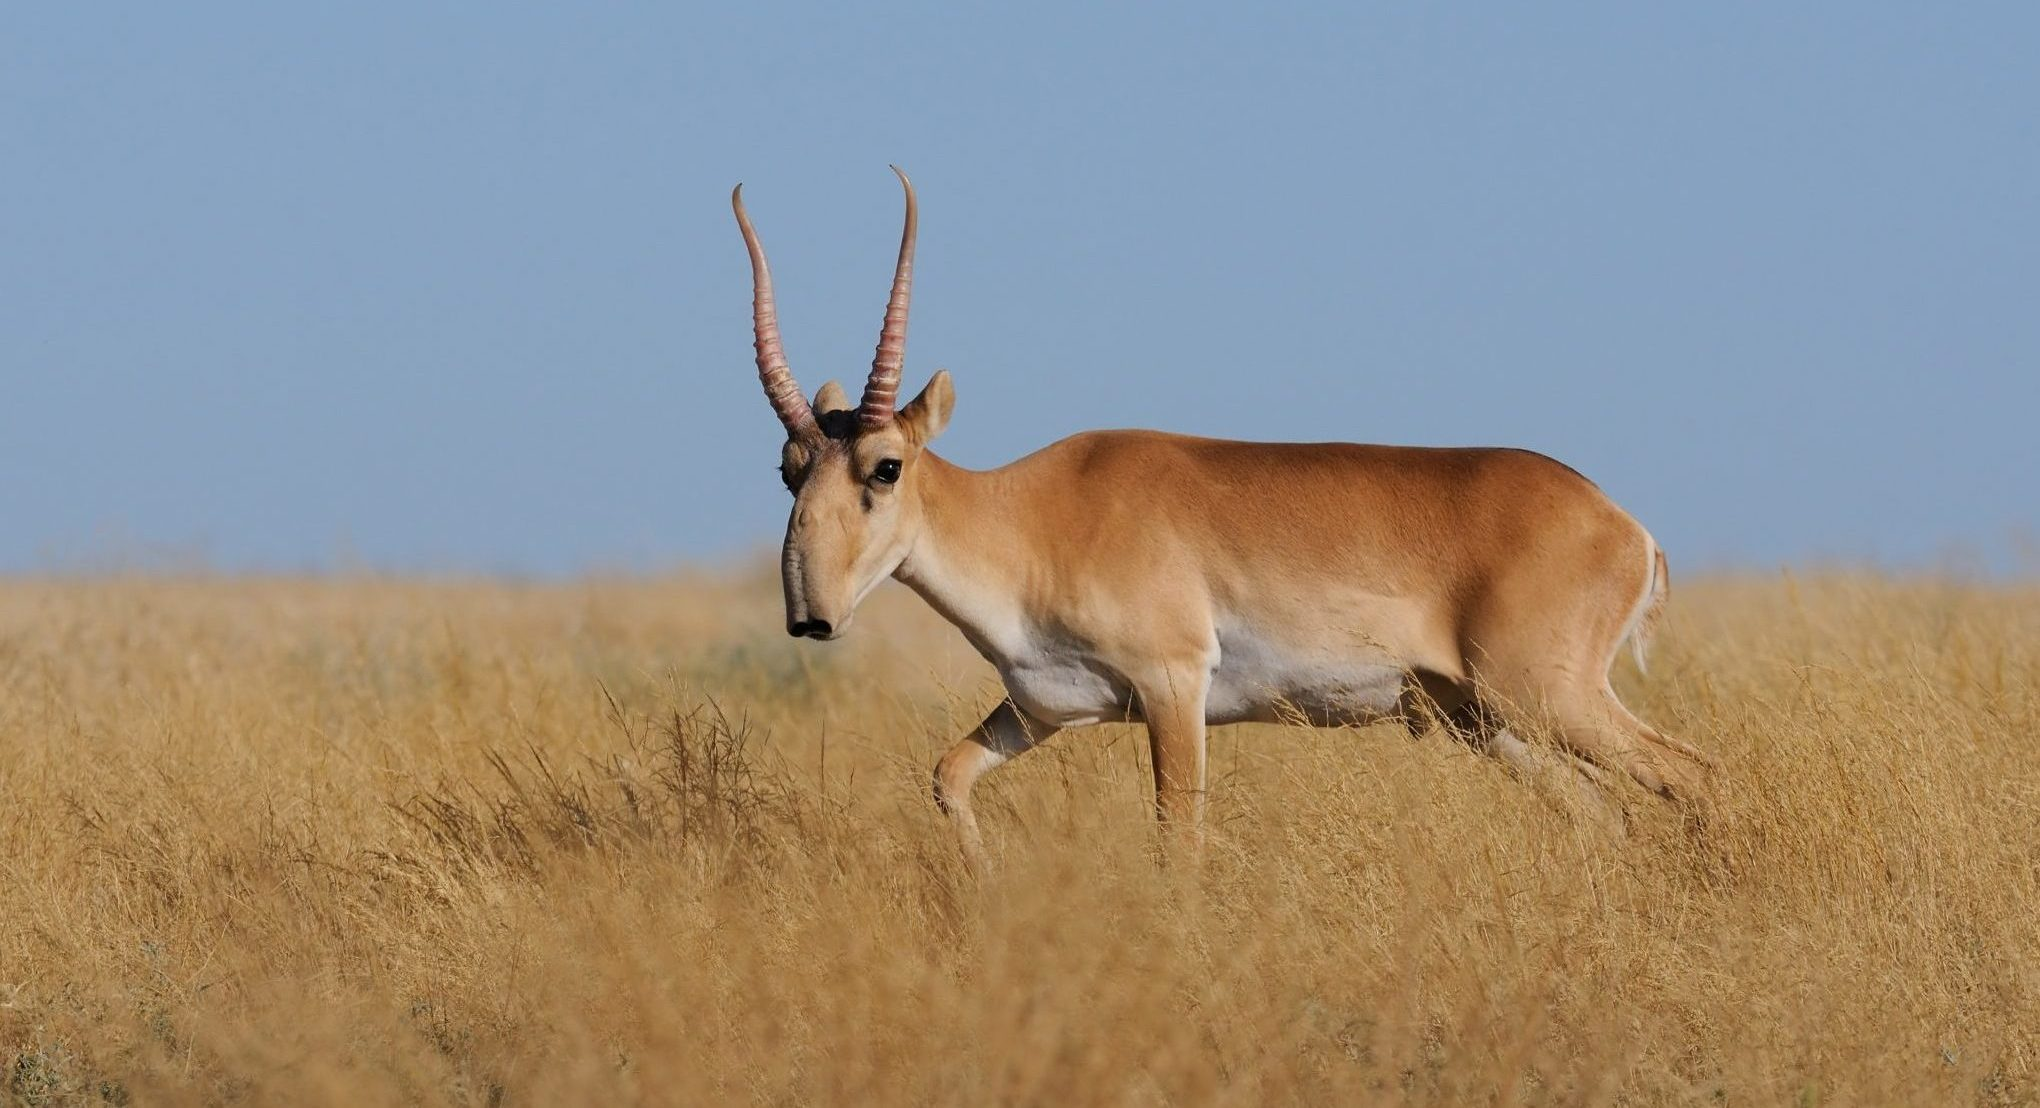saiga: (727, 164, 1733, 918)
